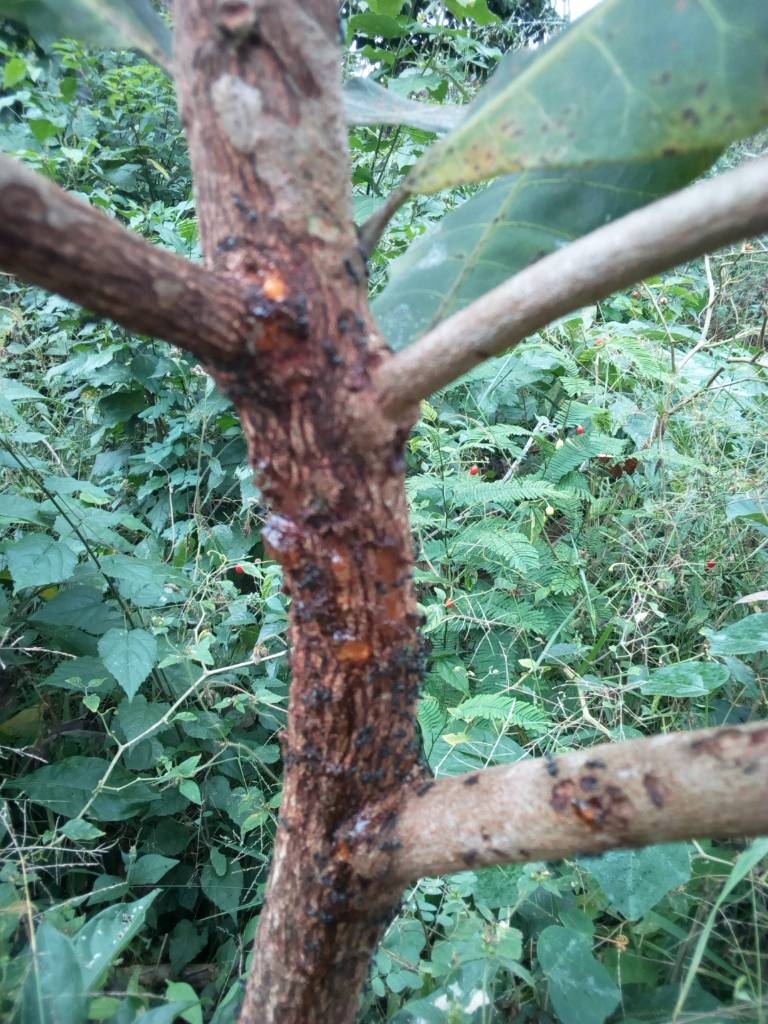Gommose: (258, 367, 418, 982), (230, 222, 394, 396)
